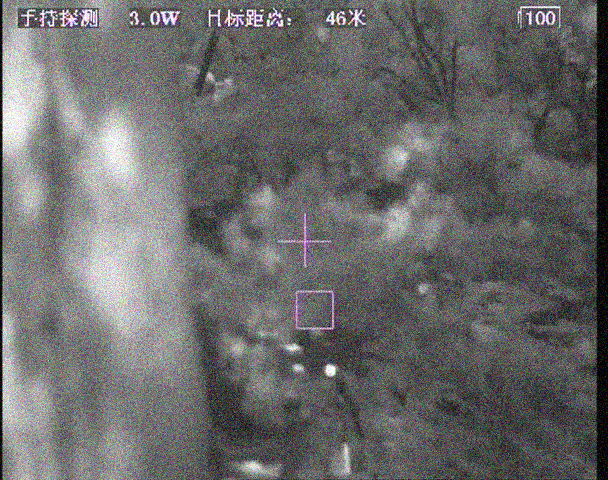my: (323, 364, 338, 379)
